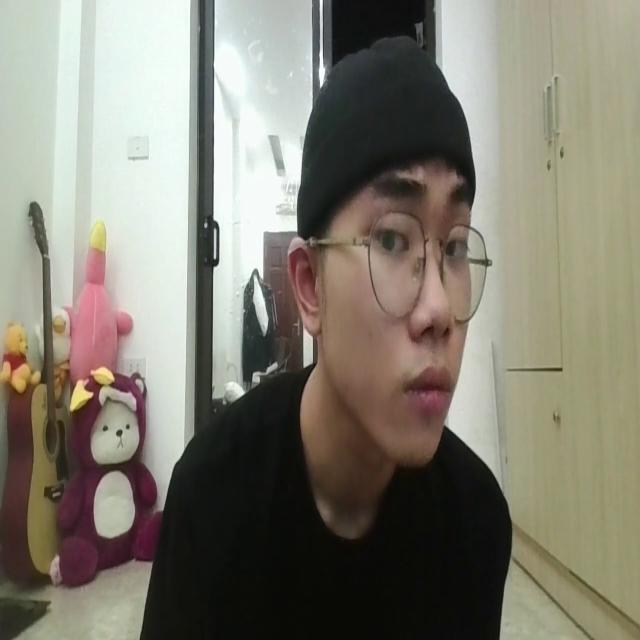student: (142, 33, 514, 640)
